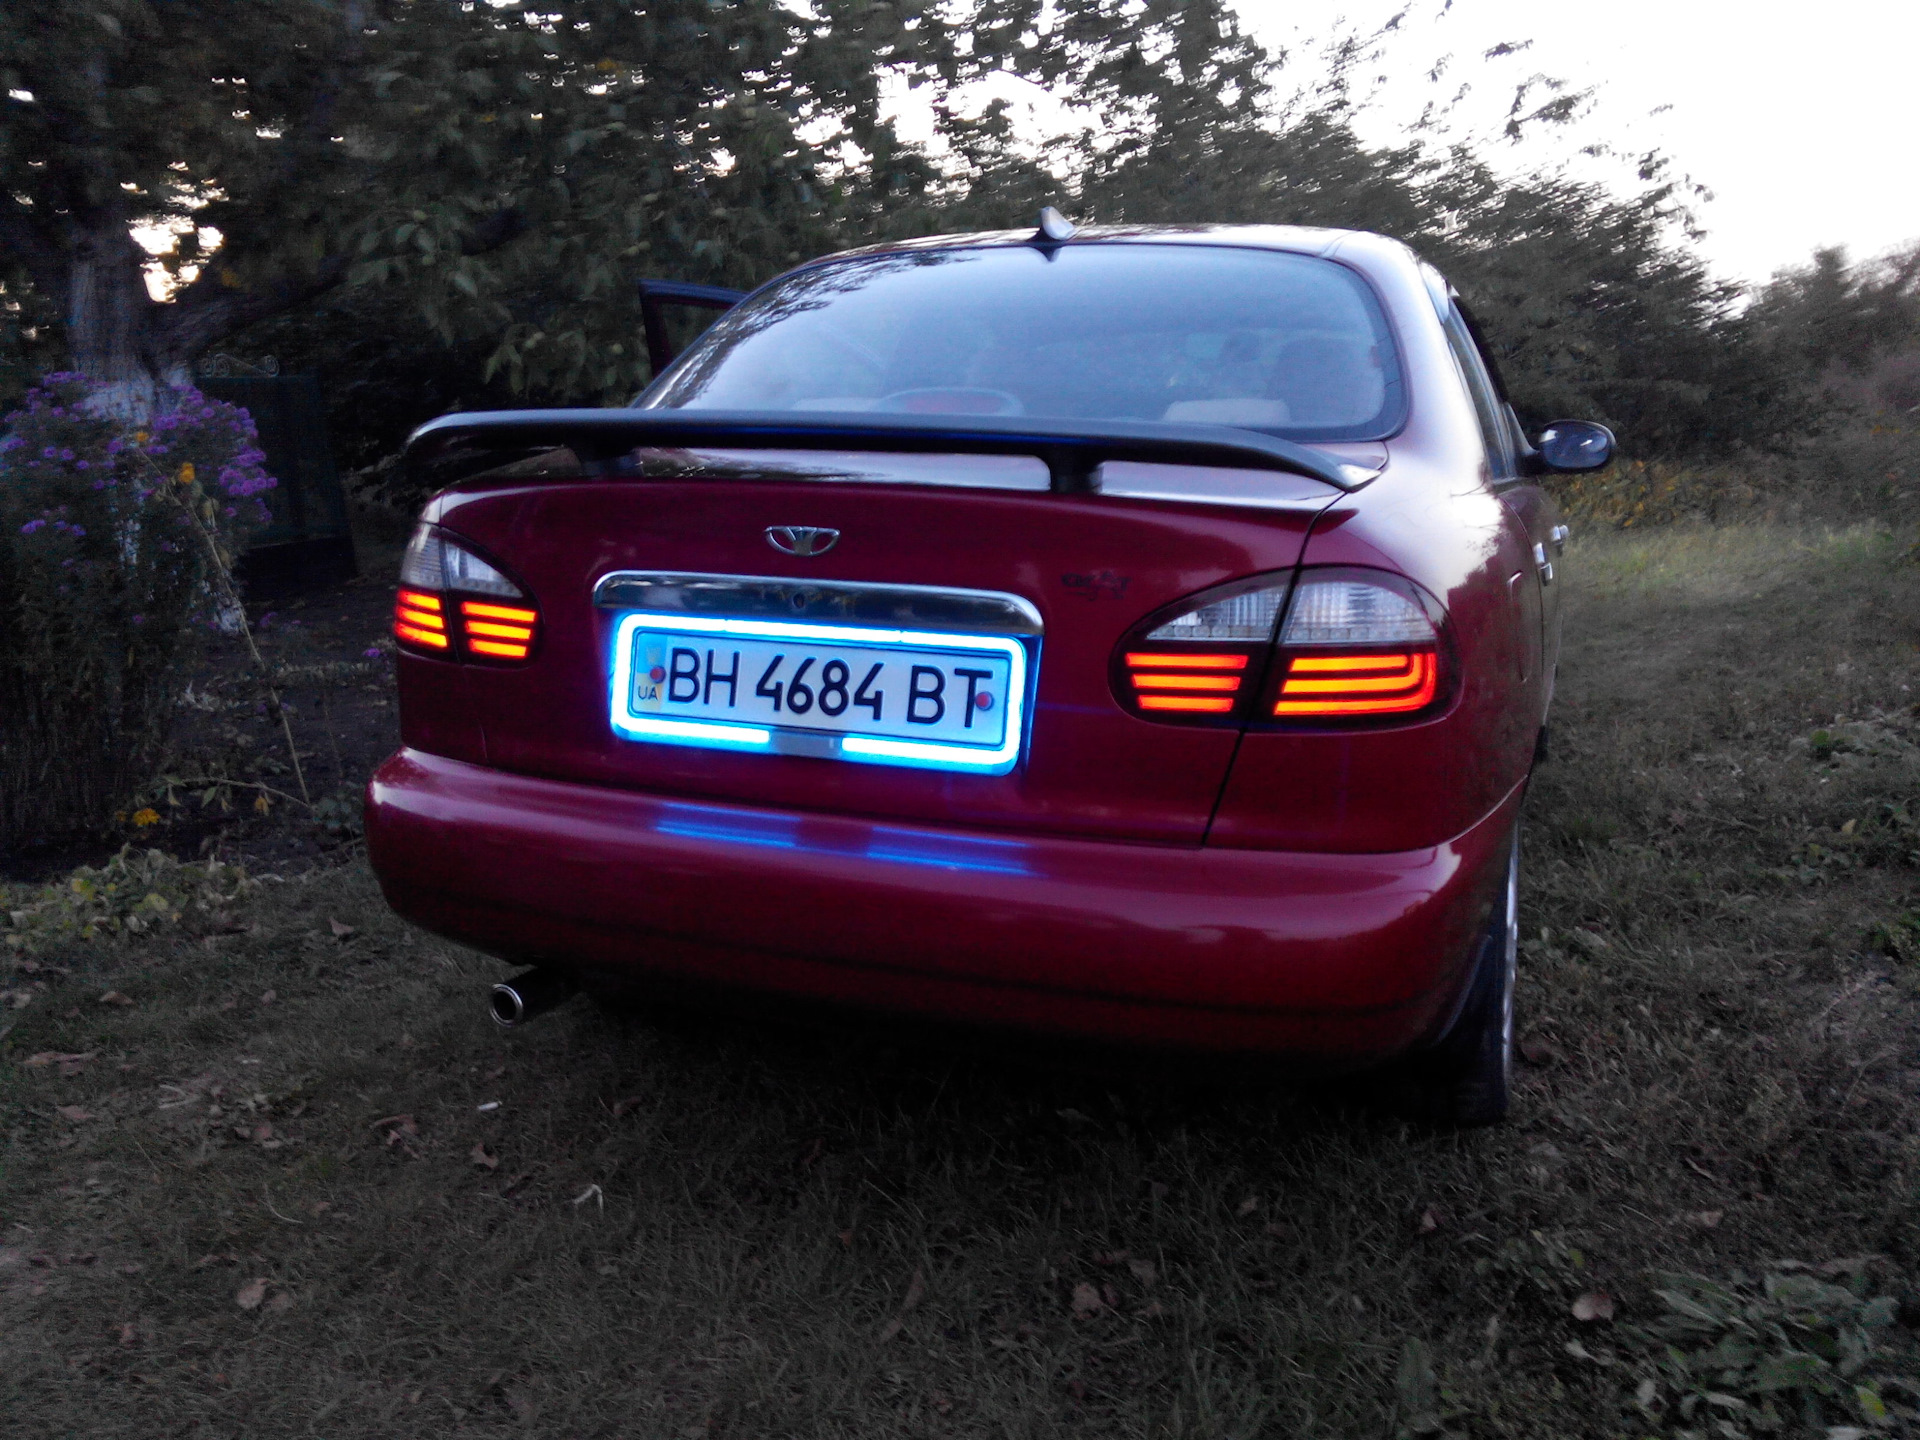car: (362, 225, 1617, 1116)
plate: (627, 628, 1011, 742)
